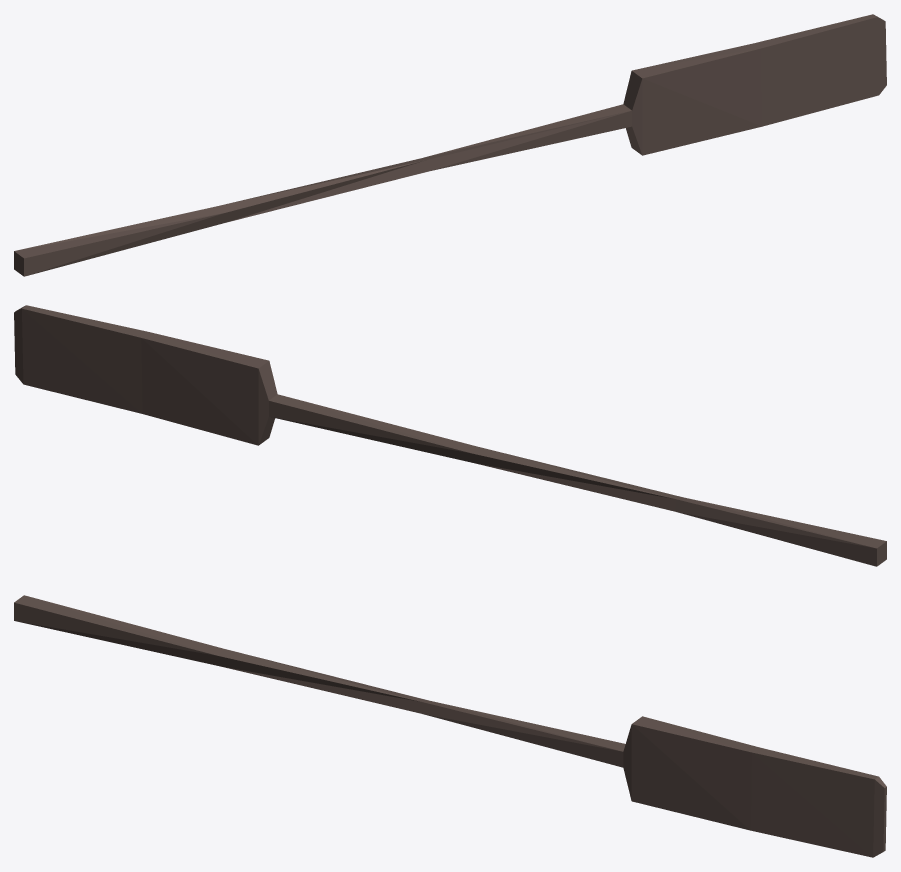
3 views of the same model, one above another, from view 1: azimuth 30°, elevation 25°; view 2: azimuth 150°, elevation 25°; view 3: azimuth 330°, elevation 25° (orthographic).
Visible parts, largest first — view 1: imagetostl_mesh; view 2: imagetostl_mesh; view 3: imagetostl_mesh.
Part boxes in pixels (left/top/right/bottom): imagetostl_mesh: left=14, top=14, right=886, bottom=276; imagetostl_mesh: left=14, top=305, right=886, bottom=566; imagetostl_mesh: left=14, top=595, right=886, bottom=857.
Size of the model in its own units: 275 by 23.53 by 6.18.
